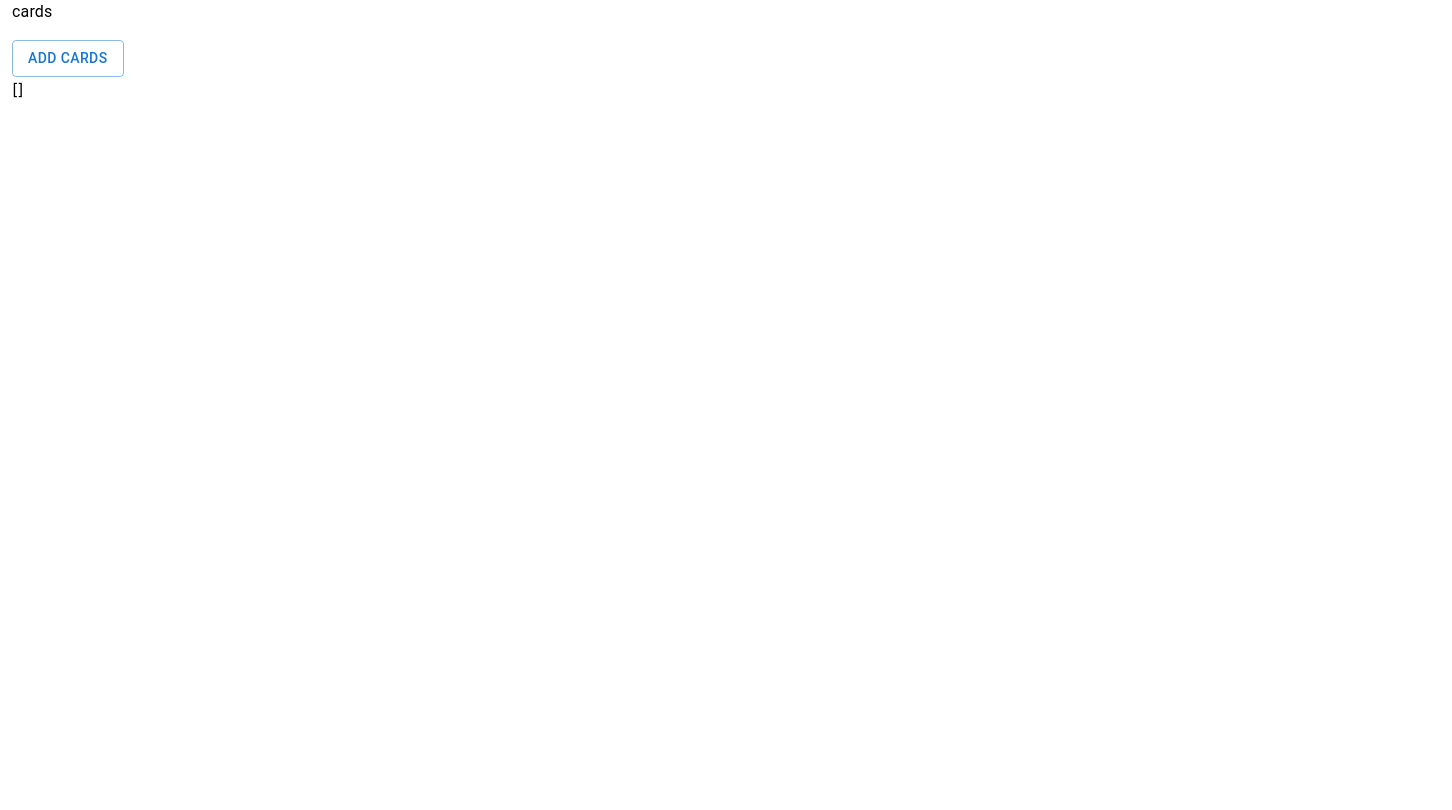
Test case: keeps live tracking out of the planned hike editor
Click the button "Add cards" at x=68, y=58, box top-left (12, 40), bottom-right (124, 76)
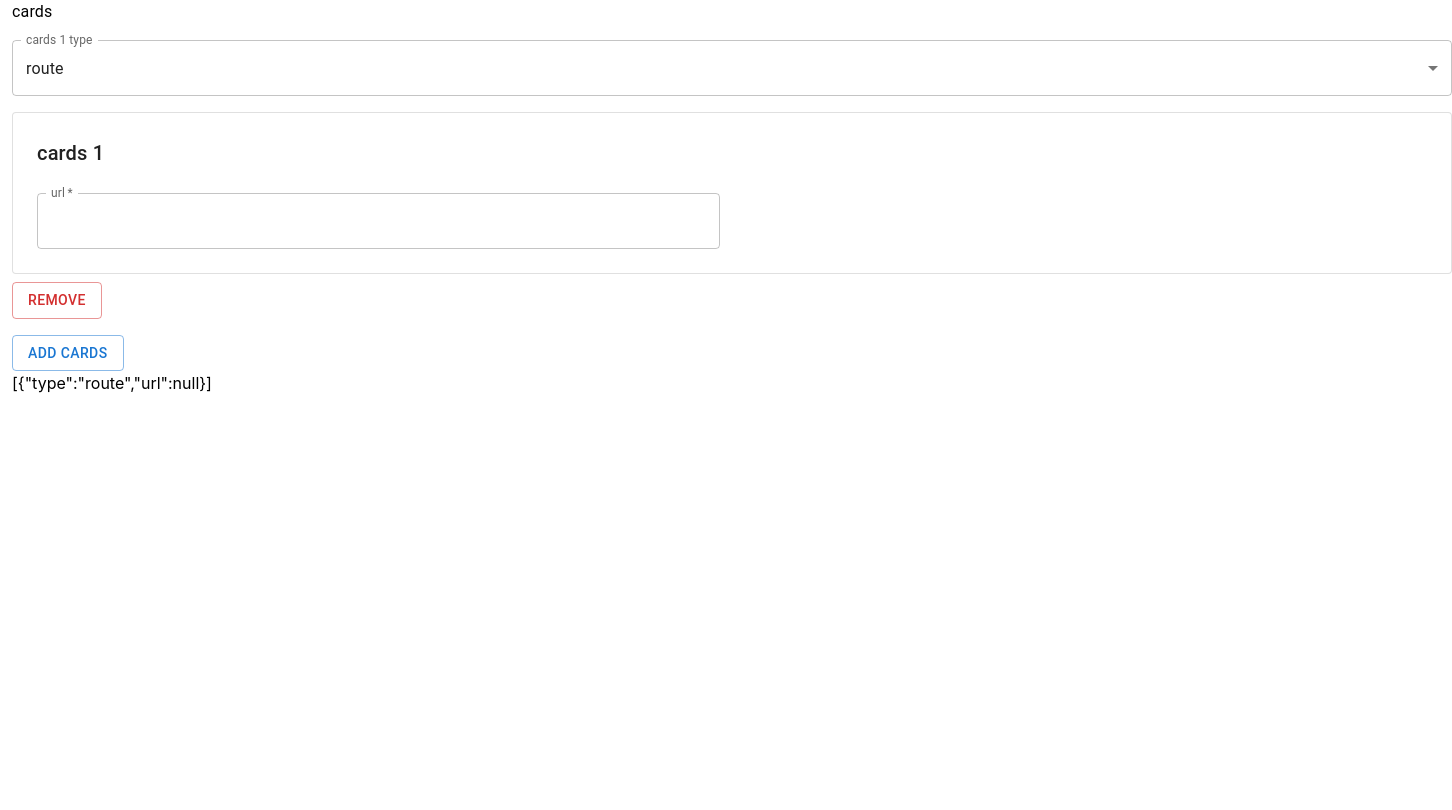
Click the button "Add cards" at x=68, y=353, box top-left (12, 334), bottom-right (124, 371)
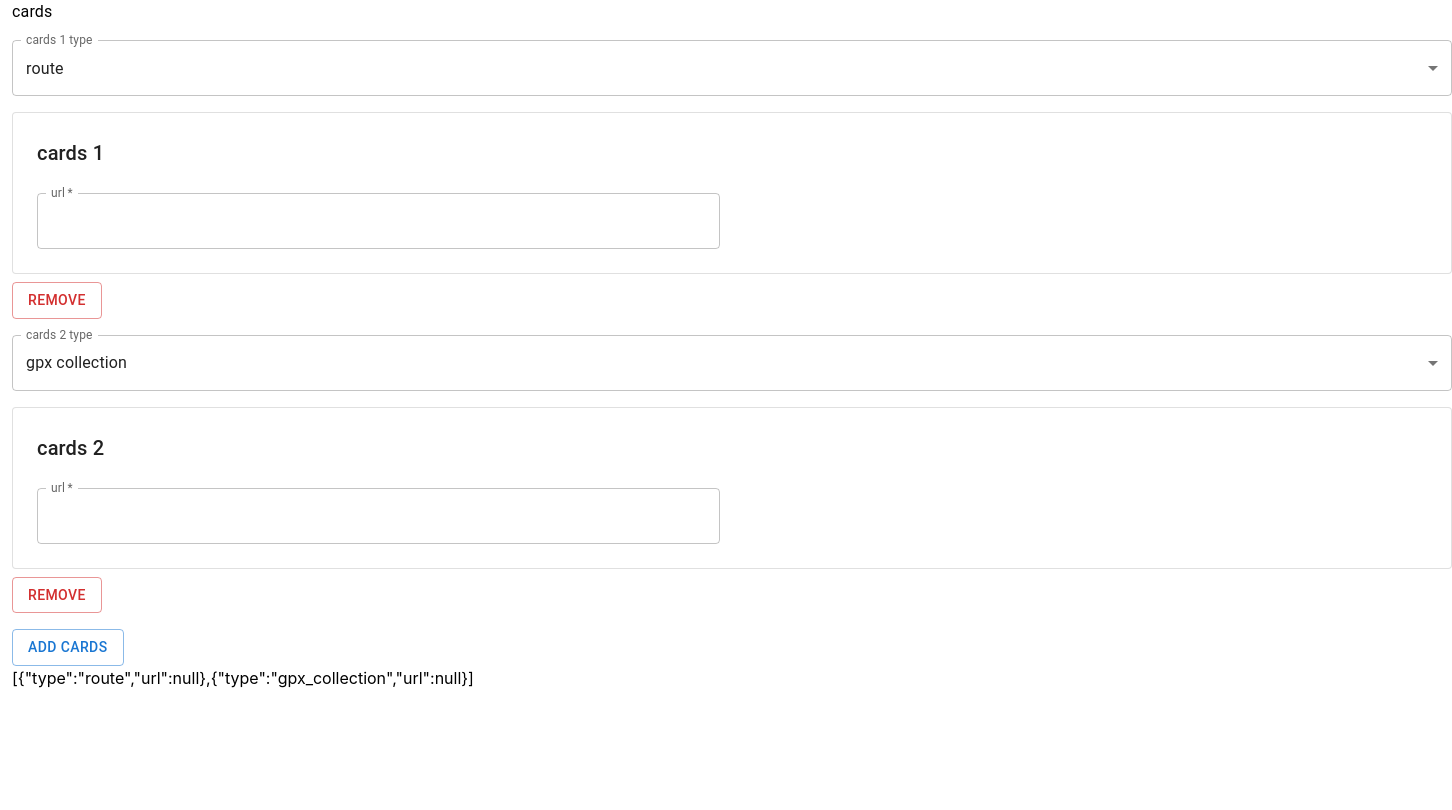
Click the button "Add cards" at x=68, y=647, box top-left (12, 629), bottom-right (124, 666)
(page scrolled)
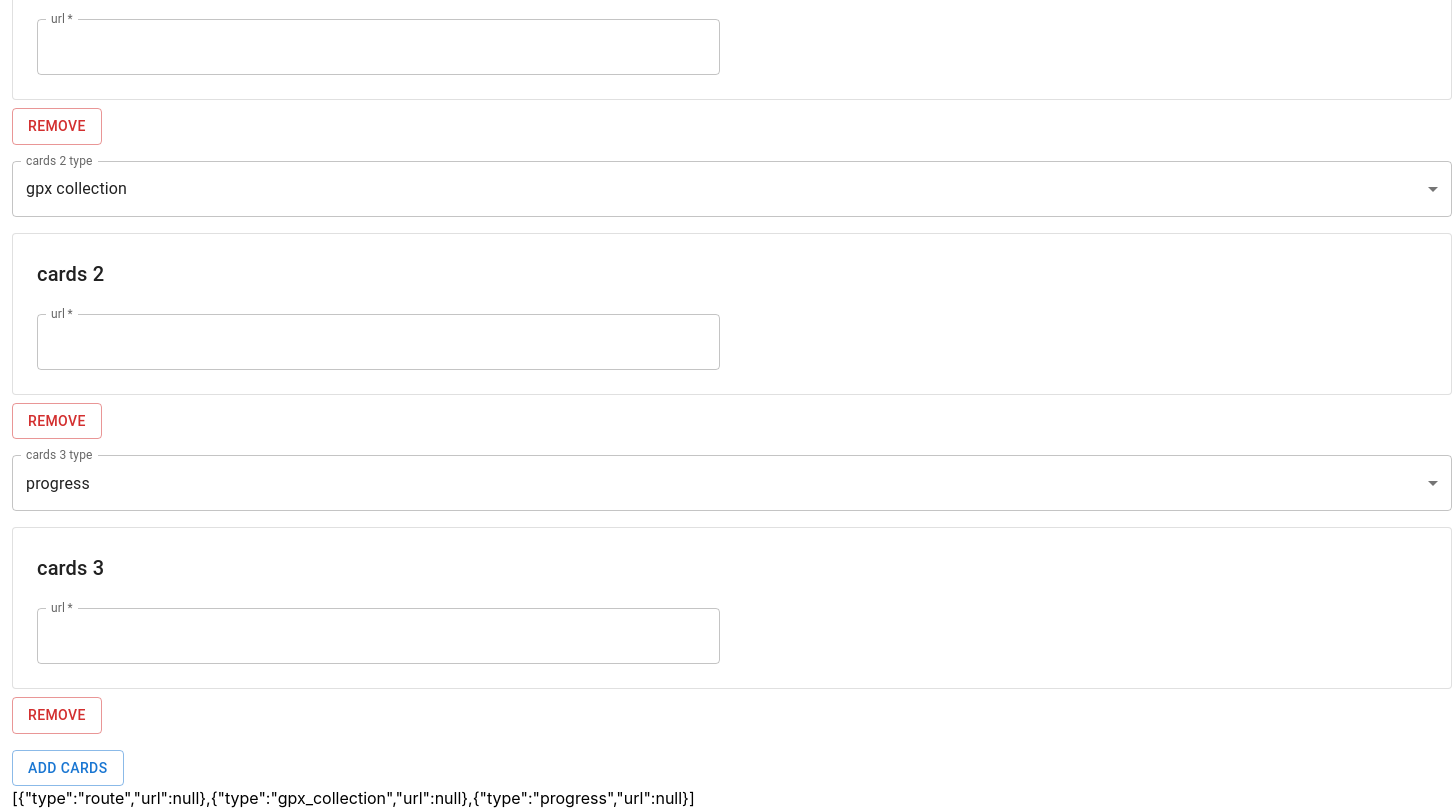
Click the button "Add cards" at x=68, y=768, box top-left (12, 750), bottom-right (124, 786)
(page scrolled)
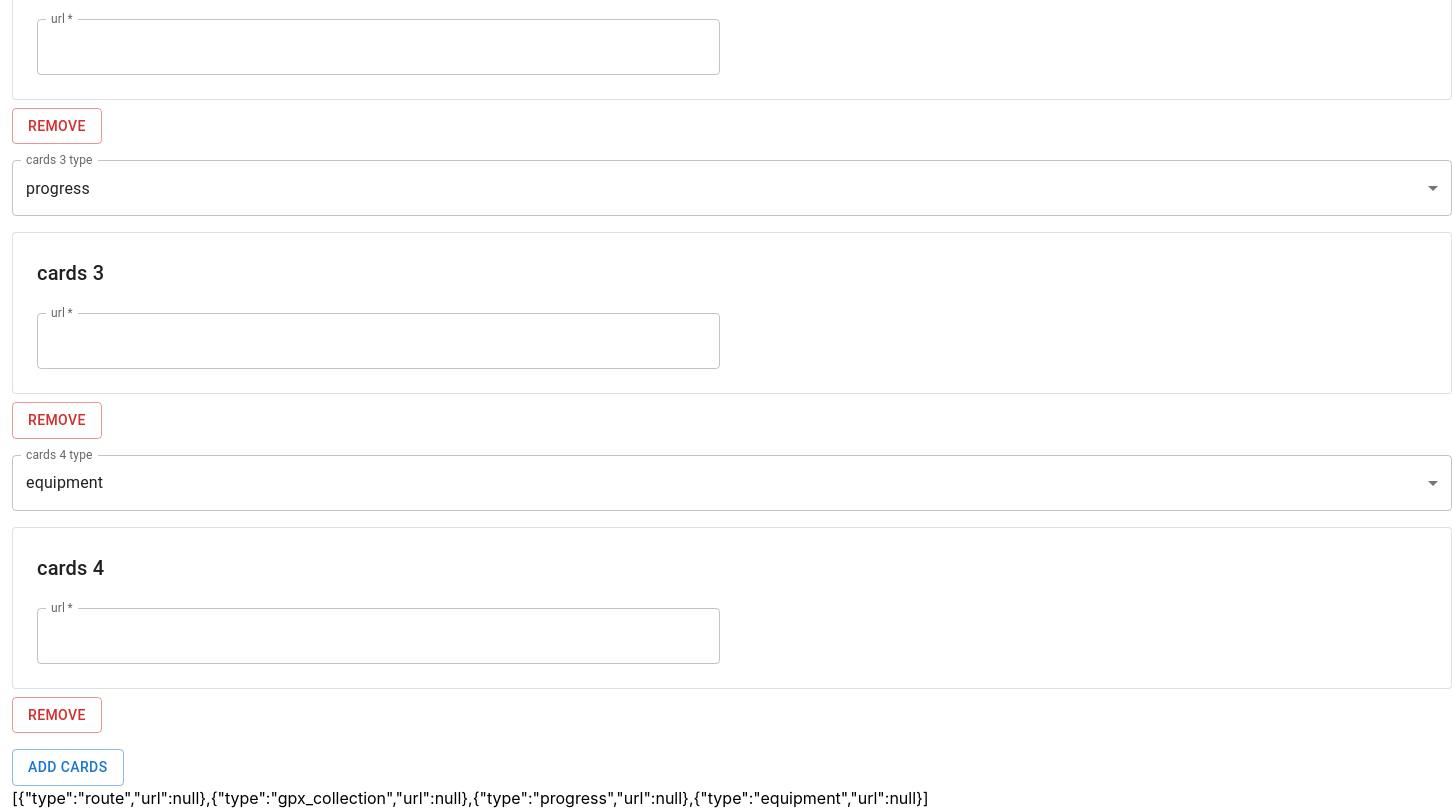
Click the button "Add cards" at x=68, y=767, box top-left (12, 749), bottom-right (124, 786)
(page scrolled)
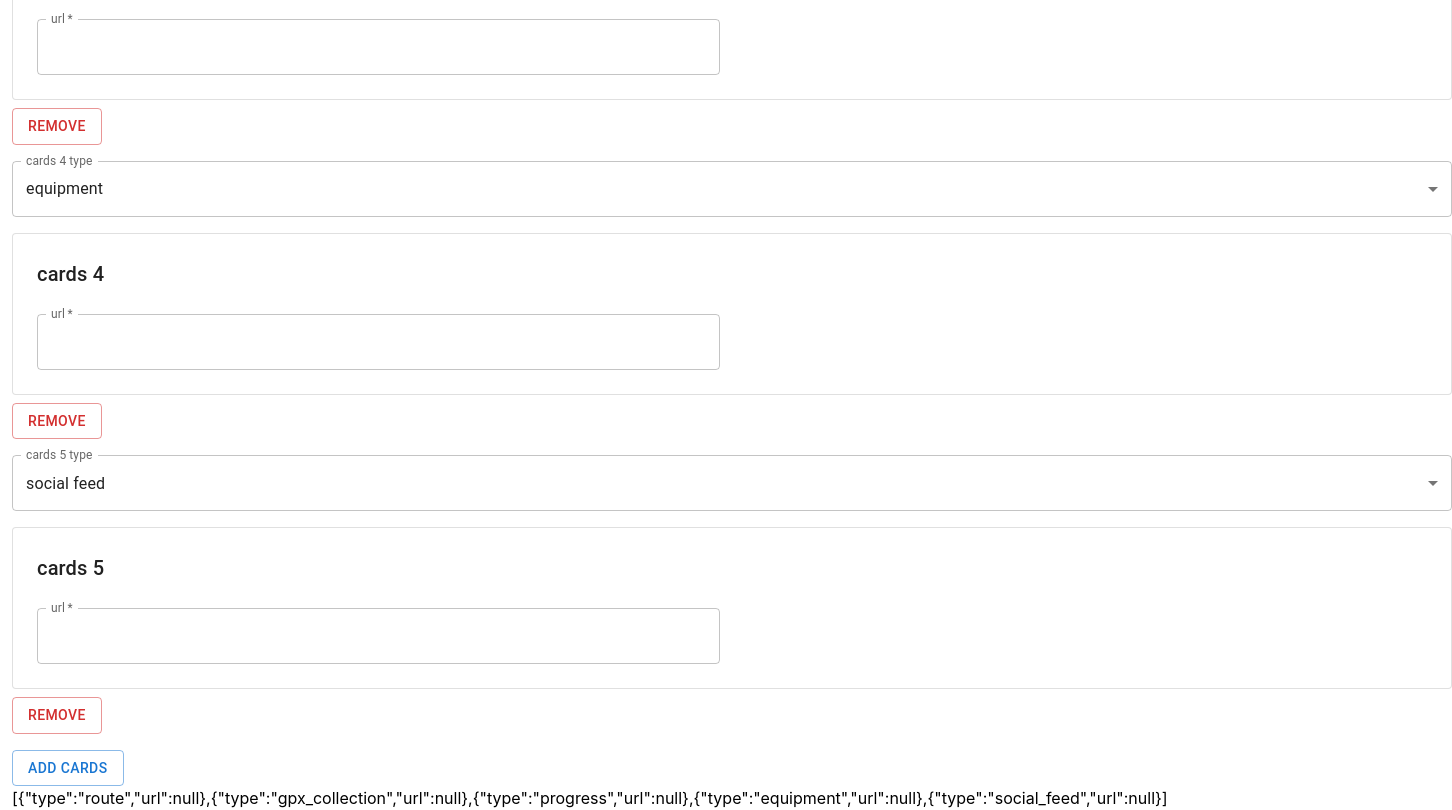
Click the button "Add cards" at x=68, y=768, box top-left (12, 750), bottom-right (124, 786)
(page scrolled)
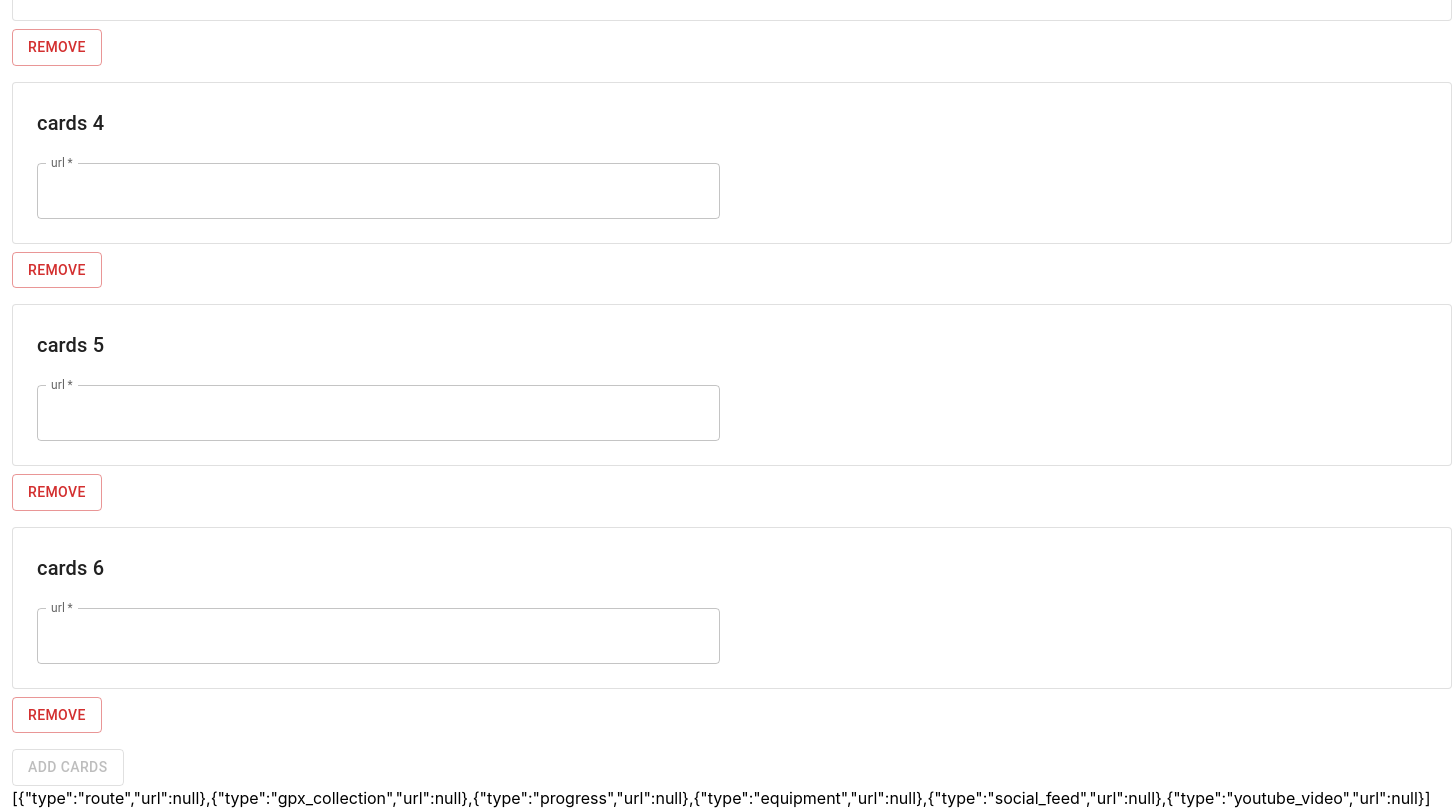
Expected: the button "Add cards" is disabled, top-left (12, 749), bottom-right (124, 786)
